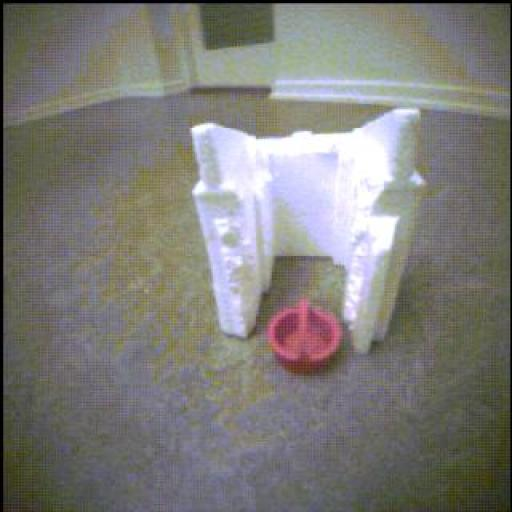Bucket: (268, 300, 342, 374)
